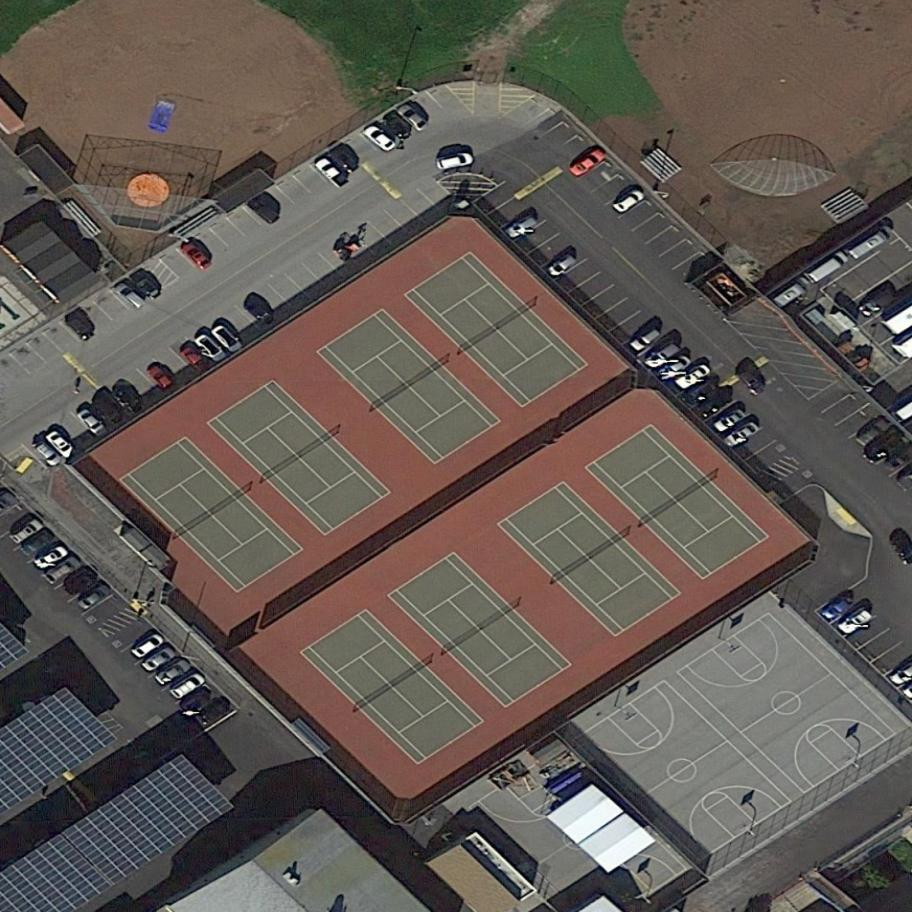large-vehicle: (847, 223, 896, 264), (805, 246, 852, 287)
small-vehicle: (856, 281, 904, 322), (861, 429, 909, 469), (58, 564, 104, 604), (689, 387, 734, 426), (190, 695, 234, 734), (852, 413, 895, 452), (175, 682, 219, 720), (16, 527, 61, 564), (207, 320, 247, 360), (678, 374, 721, 411), (176, 237, 216, 276), (192, 330, 231, 370), (243, 295, 281, 334), (245, 192, 284, 230), (91, 394, 128, 432), (567, 147, 608, 181), (42, 554, 84, 587), (314, 155, 351, 192), (74, 404, 110, 442), (178, 340, 214, 378), (130, 268, 165, 307), (836, 604, 875, 639), (818, 591, 857, 626), (626, 324, 666, 357), (111, 381, 146, 418), (62, 308, 97, 345), (112, 279, 149, 314), (610, 185, 648, 219), (654, 352, 692, 386), (168, 670, 207, 703), (642, 340, 681, 373), (75, 581, 114, 614), (7, 516, 47, 548), (395, 100, 431, 135), (379, 109, 414, 145), (141, 644, 179, 677), (674, 360, 712, 393), (154, 657, 193, 689), (327, 144, 362, 179), (361, 122, 397, 156), (736, 366, 770, 402), (503, 211, 541, 243), (144, 361, 178, 396), (130, 630, 167, 662), (31, 437, 65, 471), (33, 542, 70, 573), (724, 419, 761, 450), (44, 428, 77, 462), (544, 251, 579, 281), (712, 406, 748, 435), (436, 153, 475, 170)
